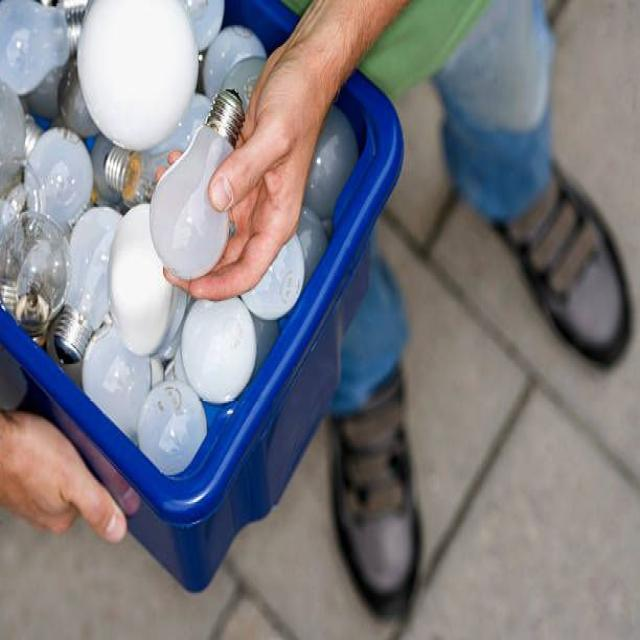electronic: (0, 0, 357, 477), (75, 0, 199, 152), (107, 201, 183, 356), (180, 293, 256, 403), (136, 378, 207, 475)
